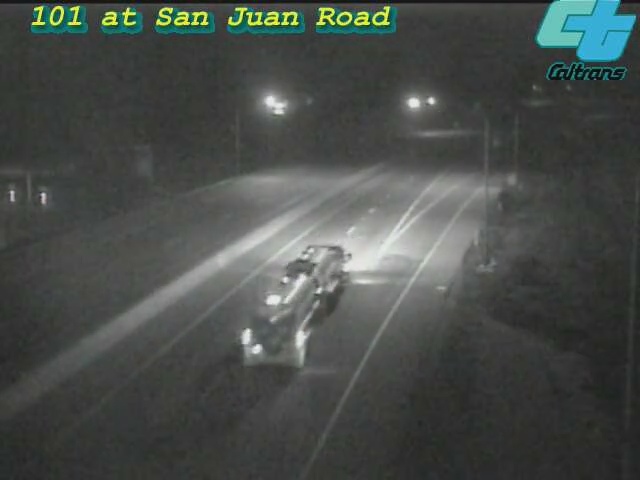vehicle: (266, 254, 346, 334)
